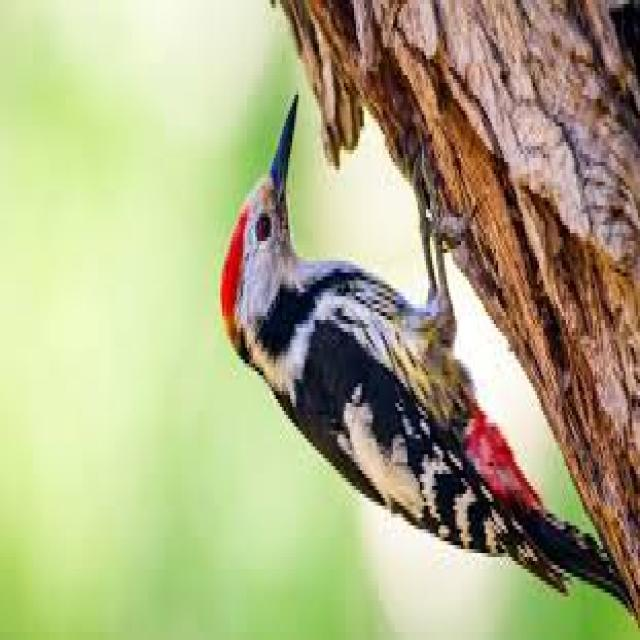Woodpecker: (217, 73, 635, 593)
